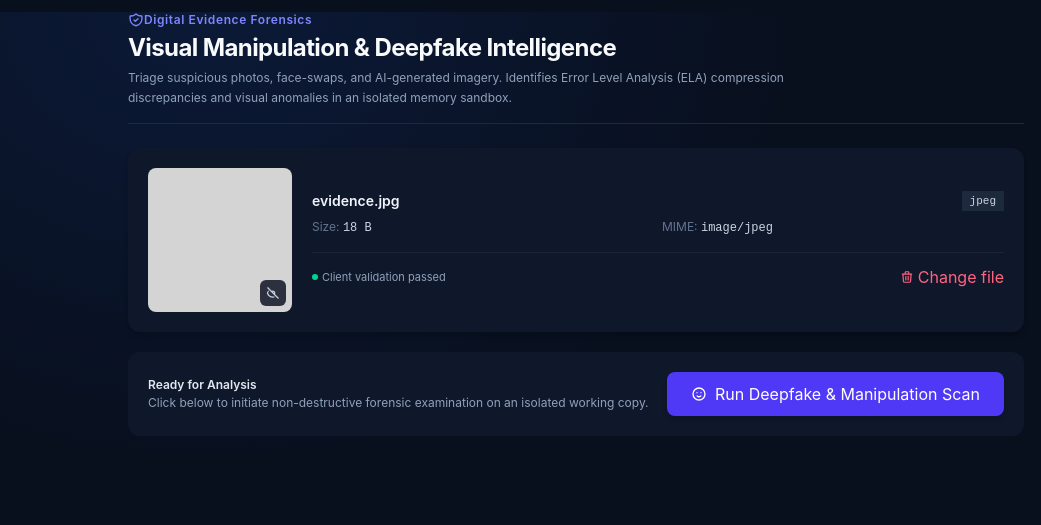
Scenario: SafeImageAnalysisWorkflow Component › handles 401 unauthenticated error gracefully
The width and height of the screenshot is (1041, 525).
Earlier steps of the test are not shown.
Click the button "Run Deepfake & Manipulation Scan": (836, 394) x1=667 y1=372 x2=1004 y2=416
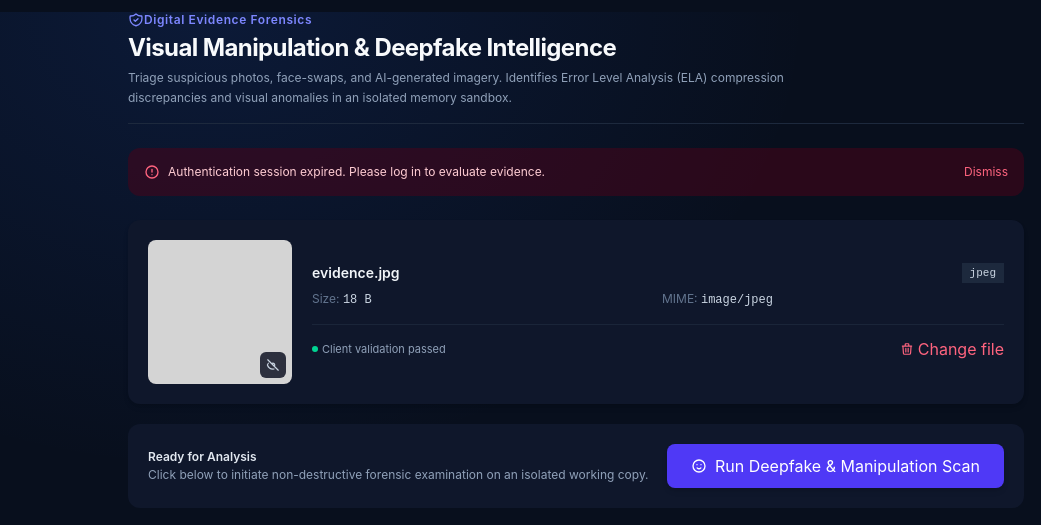
Result: the message shows "Authentication session expired. Please log in to evaluate evidence" at x1=168 y1=164 x2=545 y2=179
